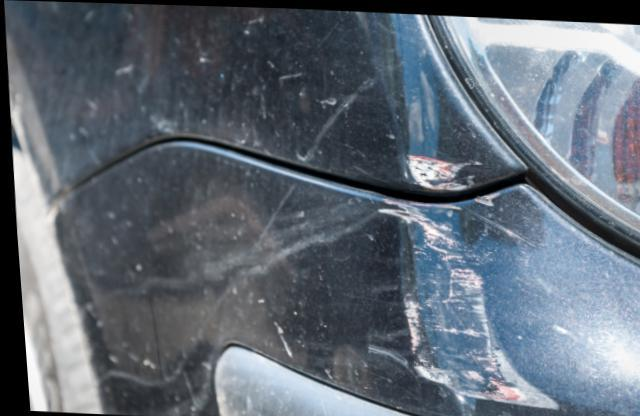scratch: (375, 187, 521, 399), (405, 149, 480, 187)
